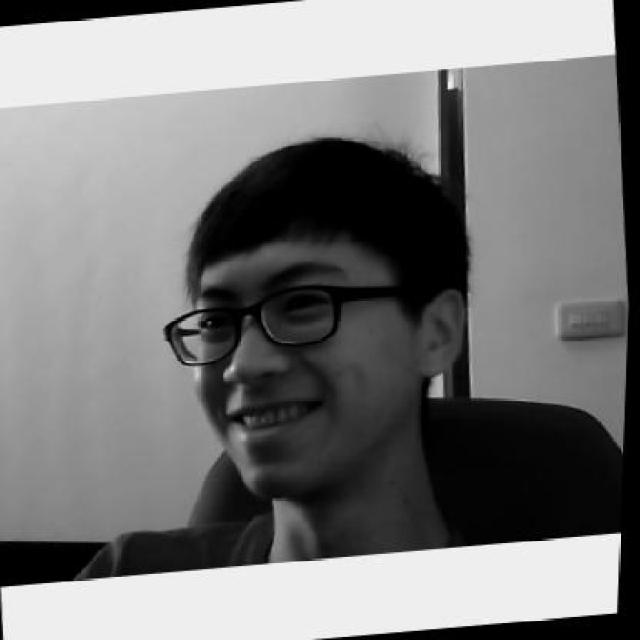attentif: (148, 125, 488, 507)
